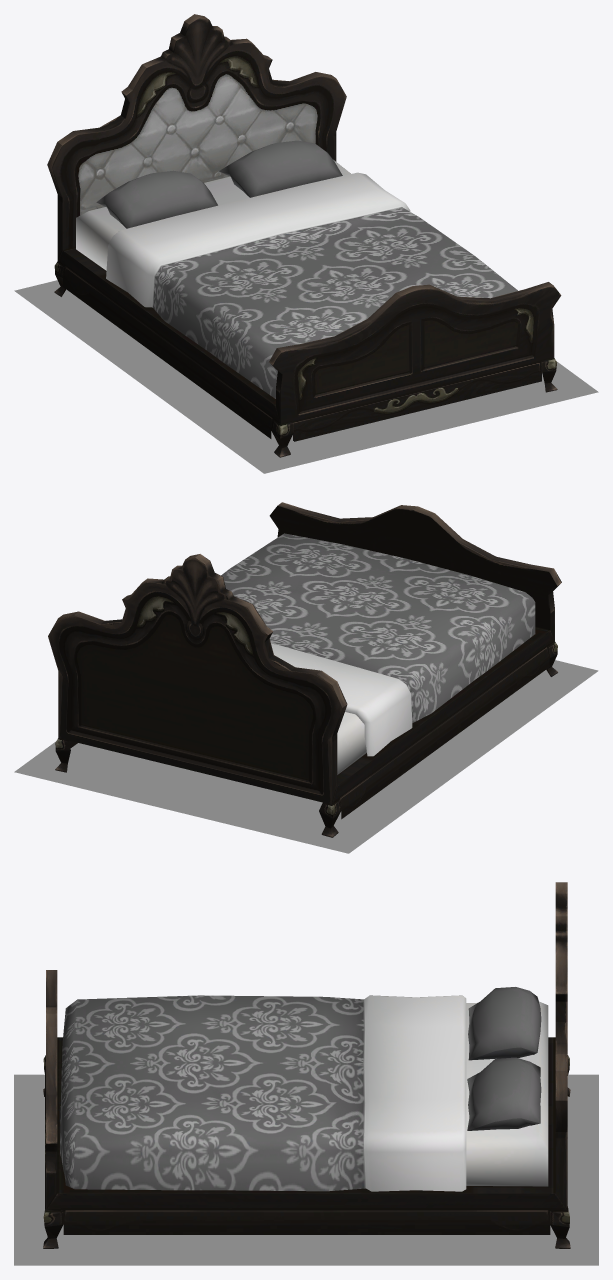
File: jj_ty_chuang17_1.FBX
The picture shows the model from 3 angles, top to bottom: view 1: azimuth 30°, elevation 25°; view 2: azimuth 150°, elevation 25°; view 3: azimuth 270°, elevation 25°; orthographic projection. The views are drawn at different scales.
Visible parts, largest first — view 1: jj_ty_chuang17_1, shadow; view 2: jj_ty_chuang17_1, shadow; view 3: jj_ty_chuang17_1, shadow.
Part boxes in pixels (left/top/right/bottom): jj_ty_chuang17_1: left=47, top=14, right=561, bottom=457; shadow: left=14, top=280, right=598, bottom=473; jj_ty_chuang17_1: left=48, top=502, right=561, bottom=837; shadow: left=14, top=660, right=598, bottom=853; jj_ty_chuang17_1: left=43, top=882, right=570, bottom=1248; shadow: left=14, top=1074, right=598, bottom=1265.
Size of the model in its own units: 66.93 by 47.45 by 86.61.
2 materials, 1 textured.
